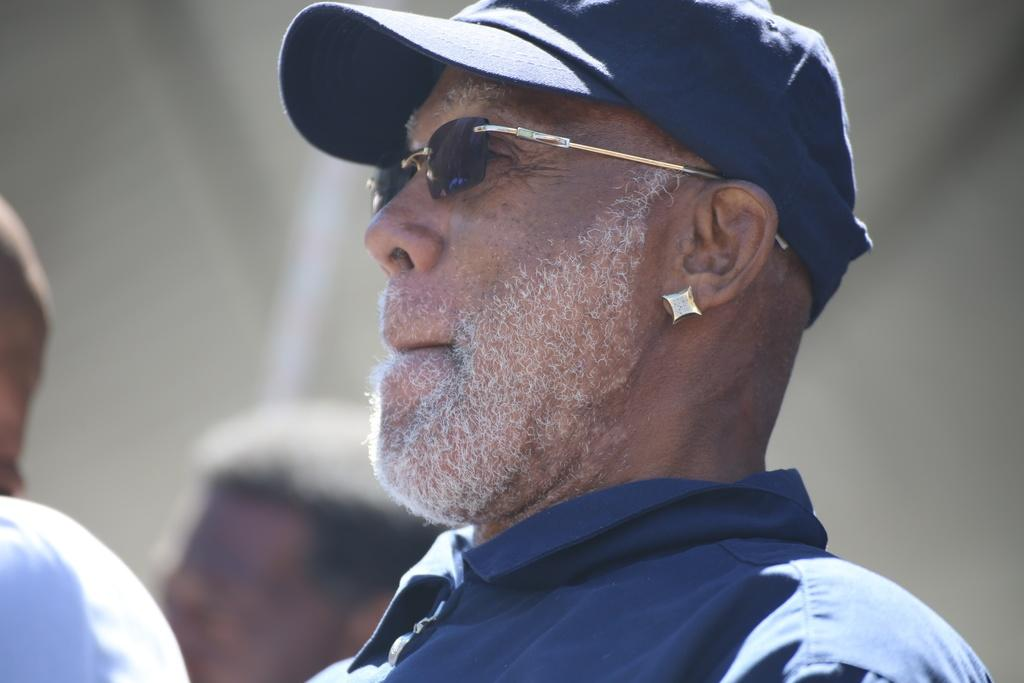Hat: (278, 0, 872, 328)
